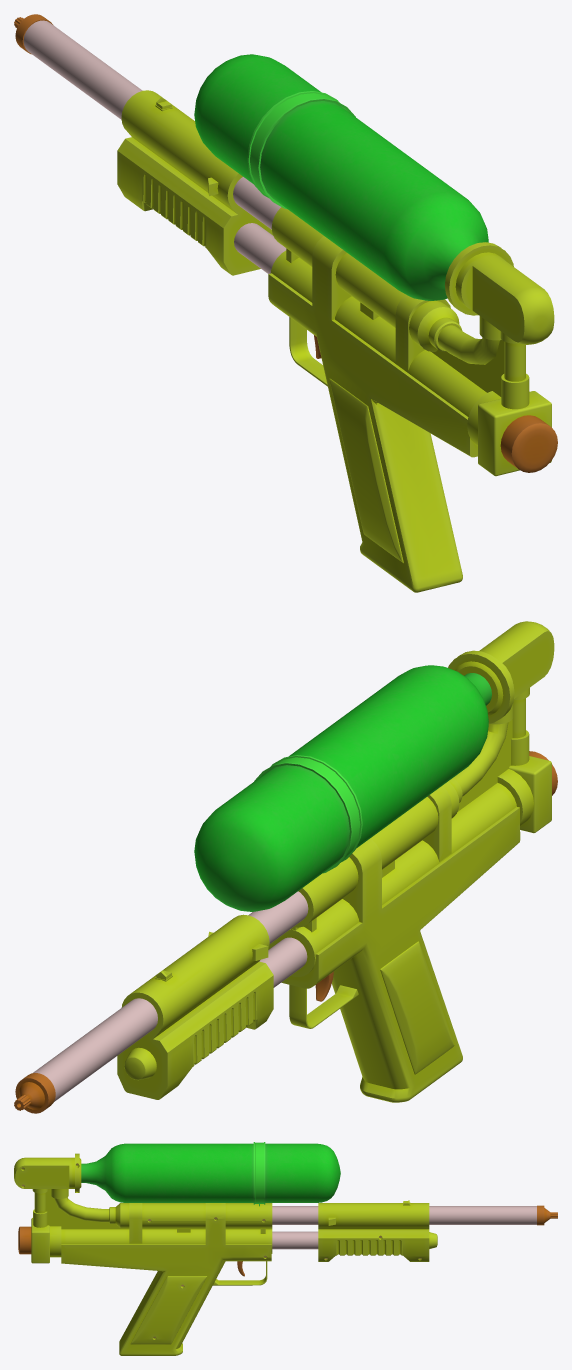
File: water_gun.glb
The picture shows the model from 3 angles, top to bottom: view 1: azimuth 30°, elevation 25°; view 2: azimuth 150°, elevation 25°; view 3: azimuth 270°, elevation 25°; orthographic projection. The views are drawn at different scales.
Parts seen in each view (by area): view 1: Circle.007; view 2: Circle.007; view 3: Circle.007.
Boxes of the visible parts, box(x1,y1,x2,y2) form: Circle.007: box(14, 14, 557, 592); Circle.007: box(14, 621, 557, 1113); Circle.007: box(14, 1142, 557, 1355).
Bounding box in the file's own units: 1.33 × 4.8 × 11.51.
1 material, 1 textured.
